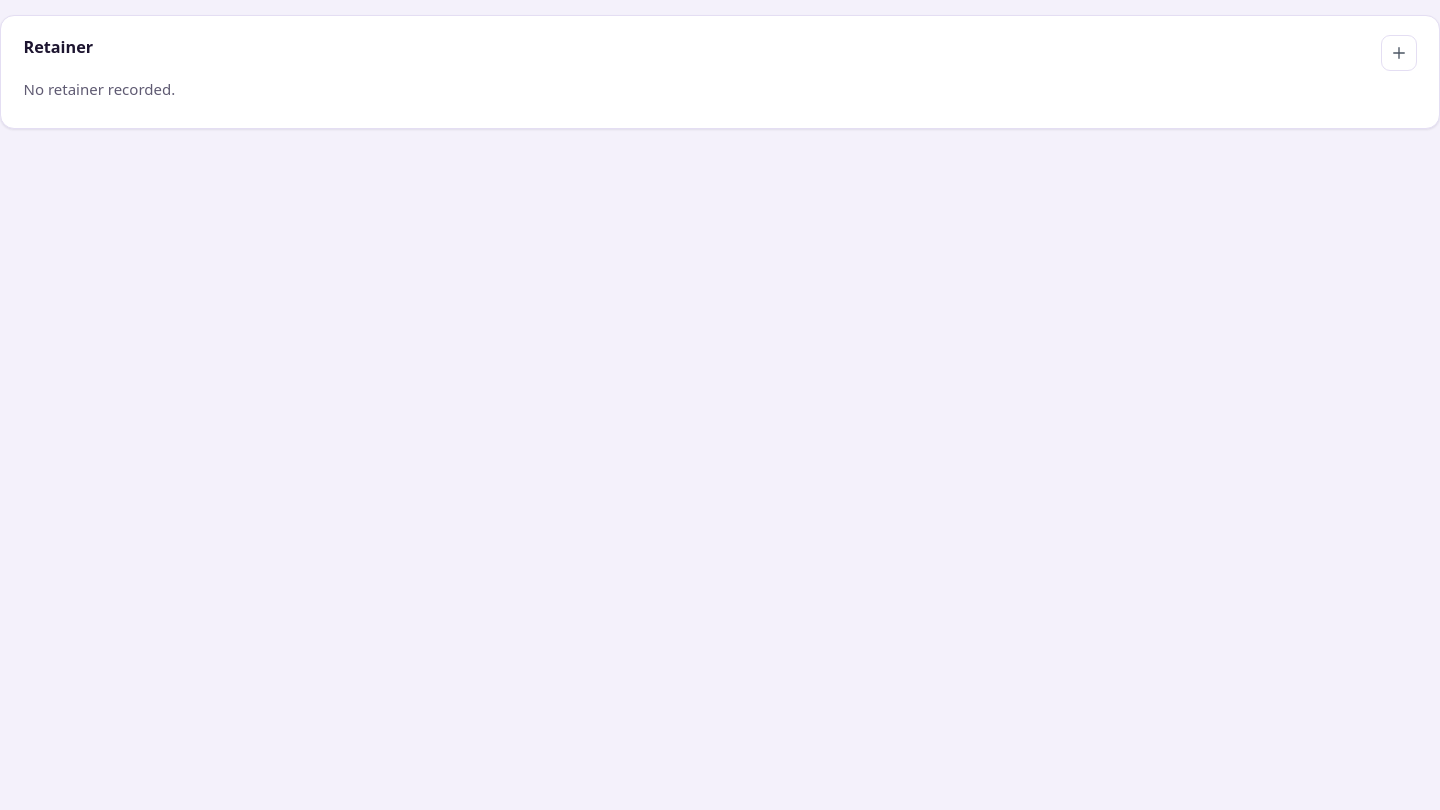
Test: JobRetainer › adds a retainer from the usual three stages
Click the button named "Add retainer": (1398, 53) x1=1380 y1=35 x2=1416 y2=71
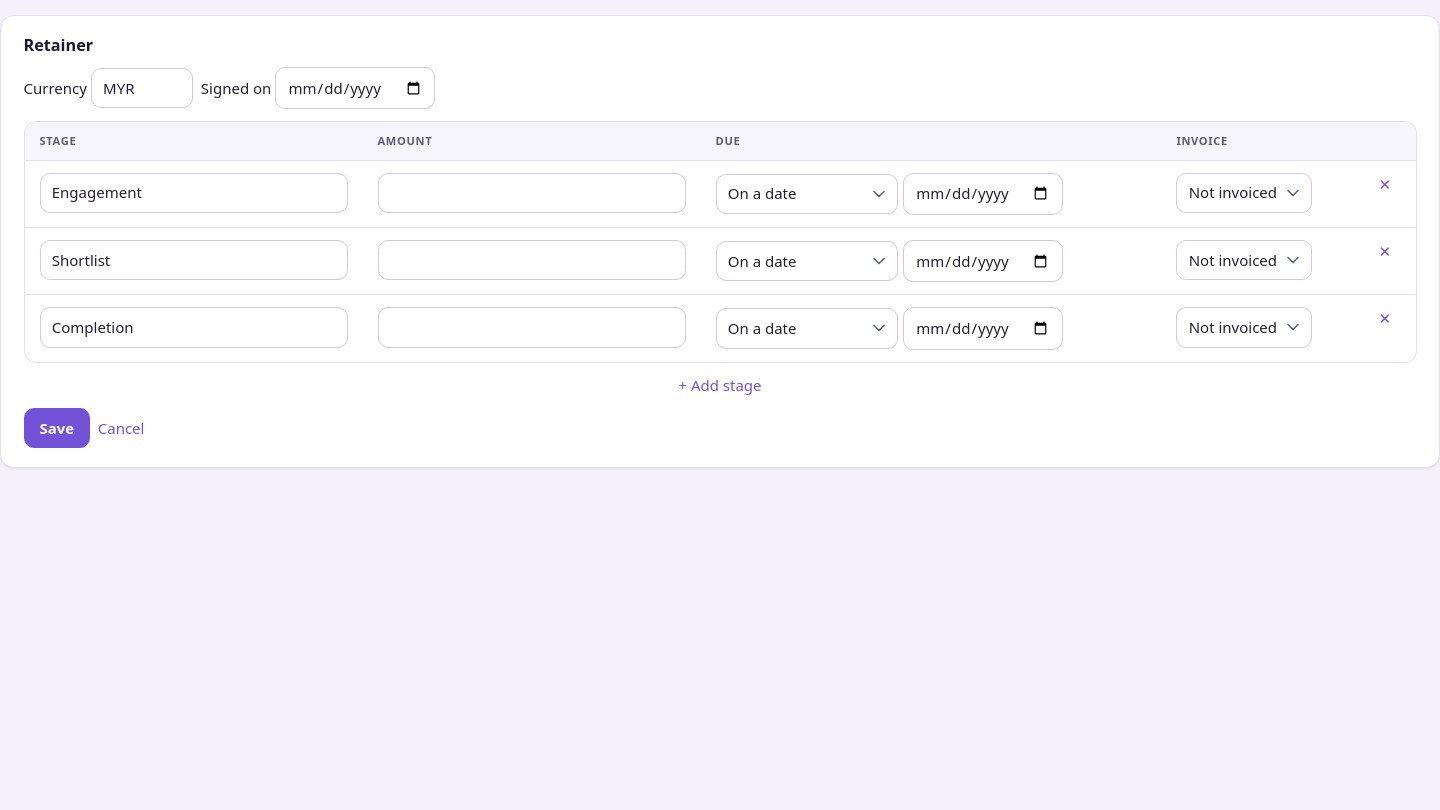
In the field named "Stage 1 amount": (532, 193) x1=378 y1=173 x2=686 y2=213, type "15,000"
Select "Days after signing" in the dropdown named "Stage 1 due": (807, 194) x1=716 y1=174 x2=898 y2=214
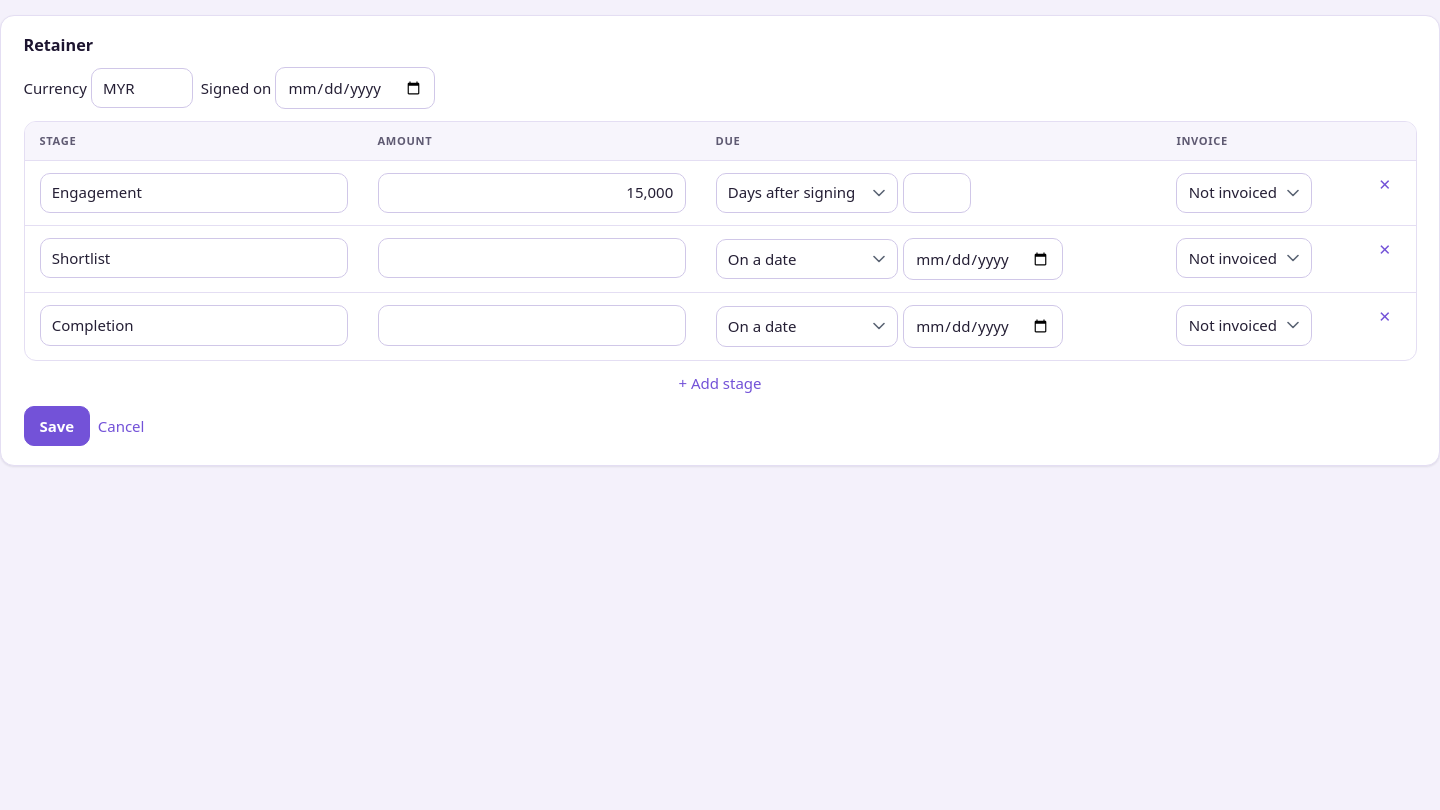
In the number field named "Stage 1 days": (937, 193) x1=903 y1=173 x2=970 y2=213, type "0"
Click the button "Save": (57, 426) x1=24 y1=406 x2=90 y2=446
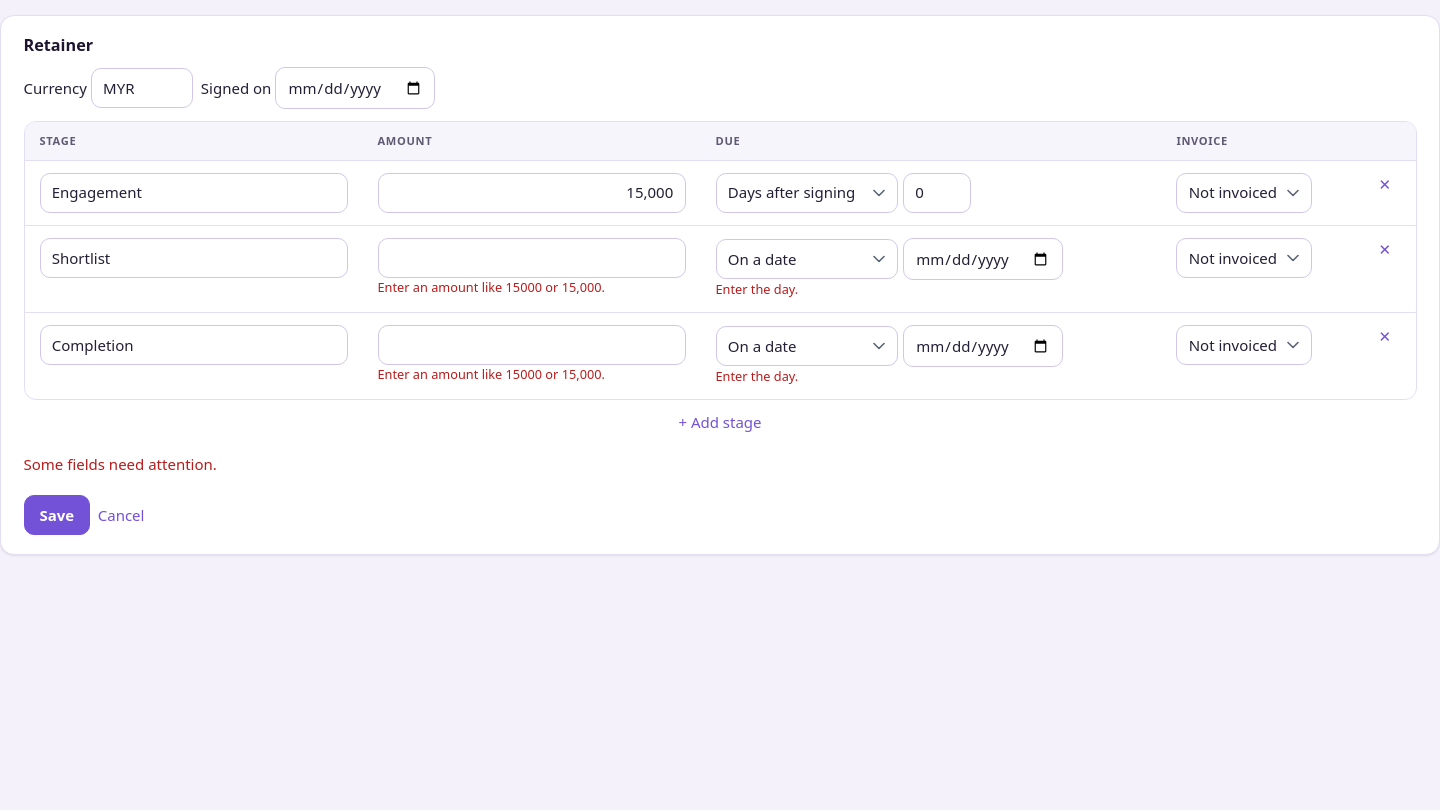
Check: the text "Enter an amount like 15000 or 15,000." is shown 2 times, box x1=378 y1=278 x2=605 y2=296; x1=378 y1=365 x2=605 y2=383
Click the button named "Remove stage 3": (1385, 337) x1=1378 y1=325 x2=1391 y2=348
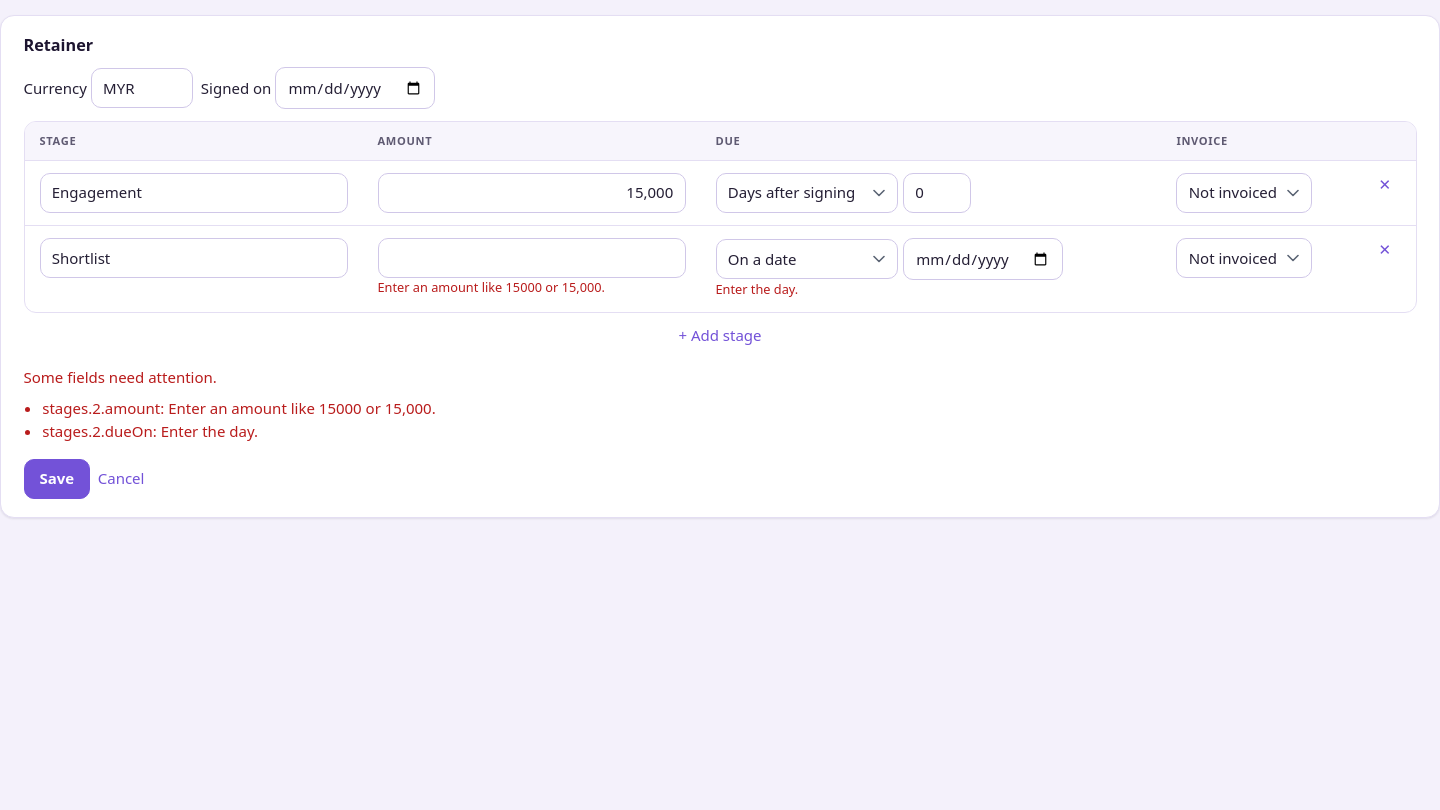
Click the button named "Remove stage 2": (1385, 250) x1=1378 y1=238 x2=1391 y2=261
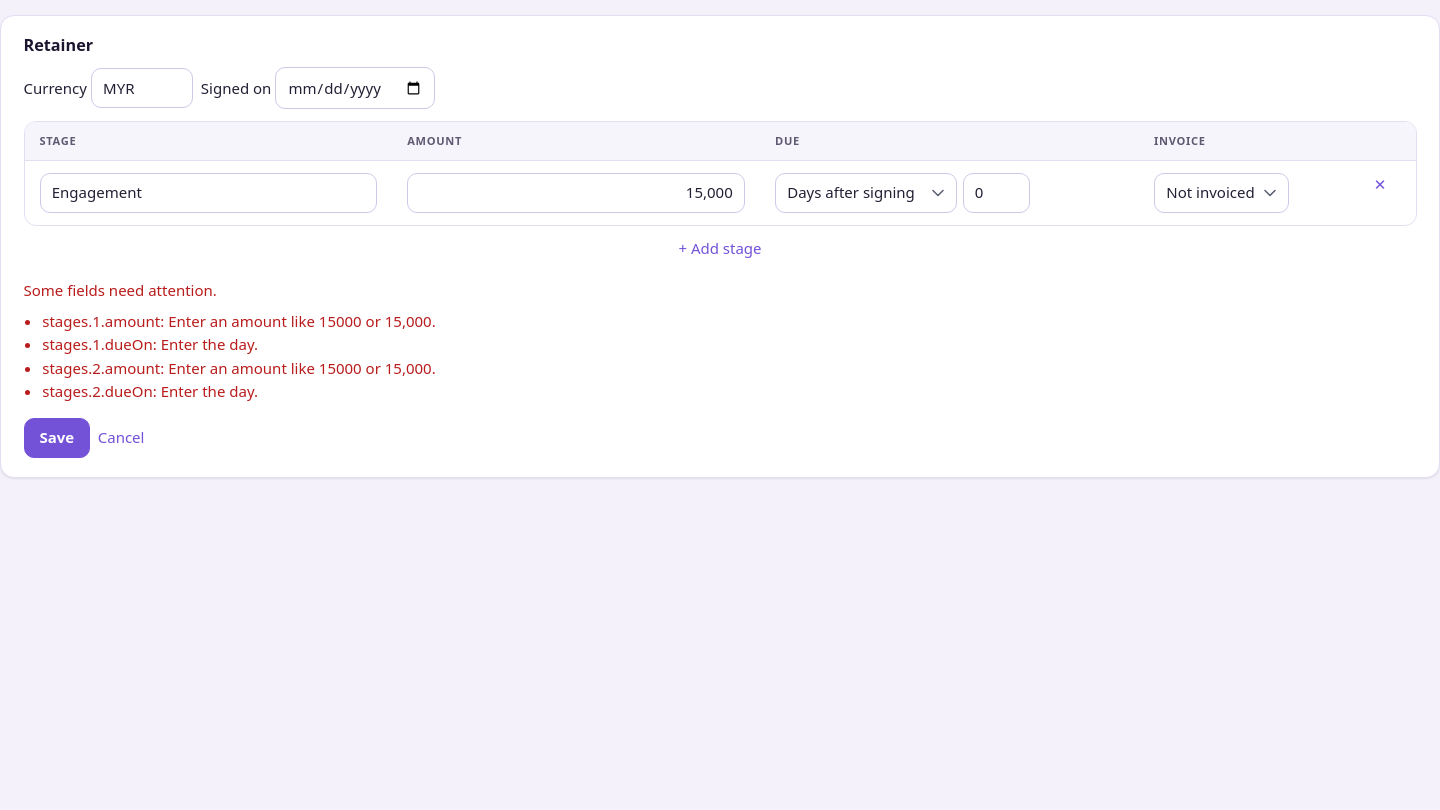
Click the button "Save": (57, 438) x1=24 y1=418 x2=90 y2=458
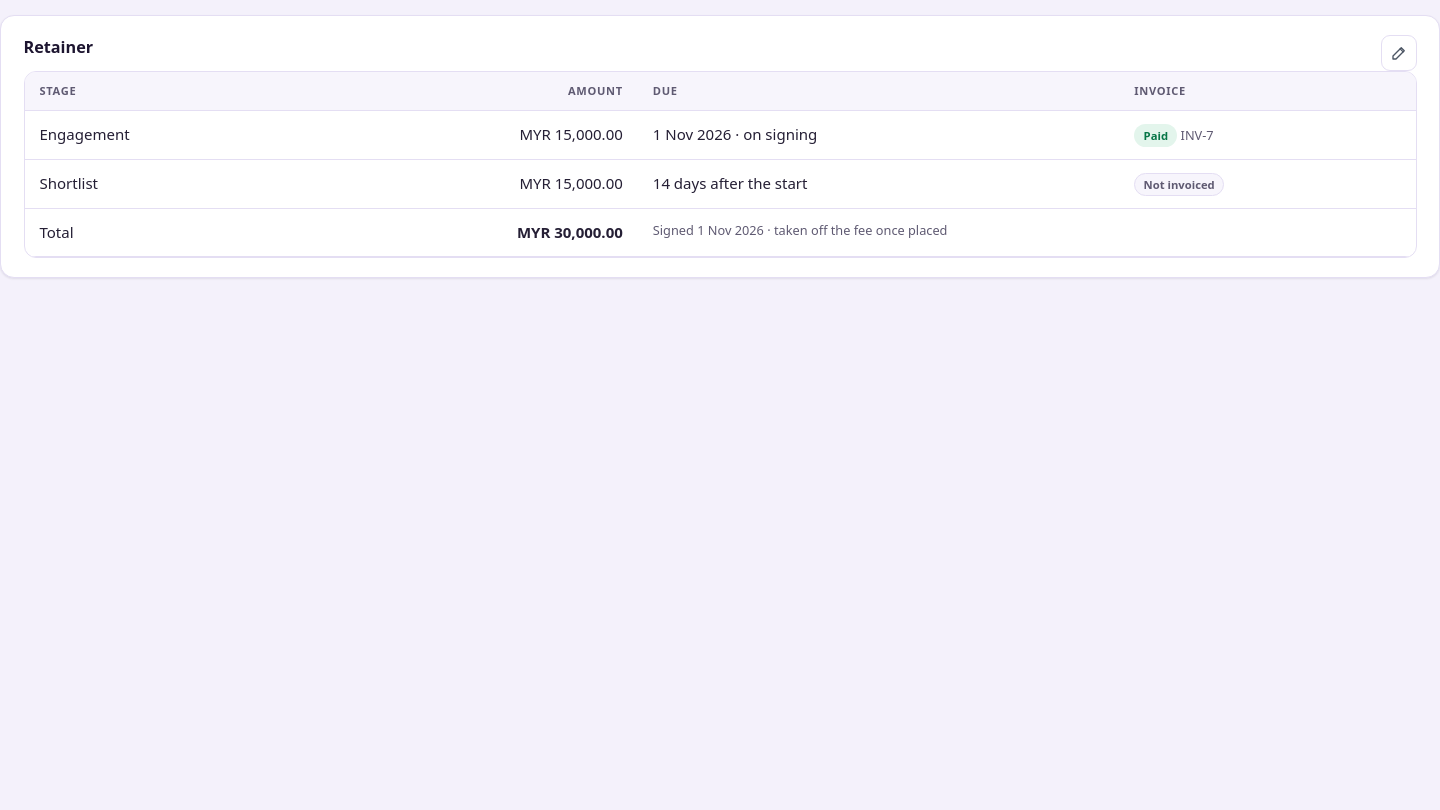
Check: the text "Shortlist" is shown, box x1=24 y1=160 x2=312 y2=208
